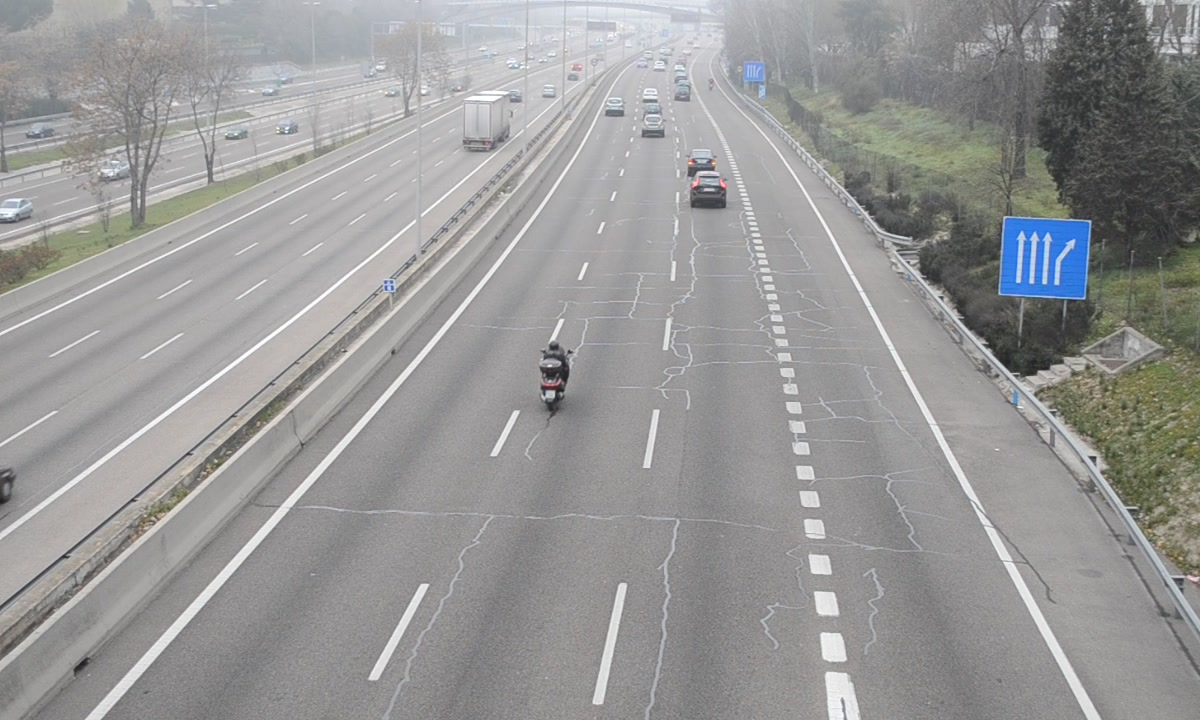car: (690, 172, 726, 206), (686, 147, 716, 174)
motorcycle: (537, 340, 573, 416)
